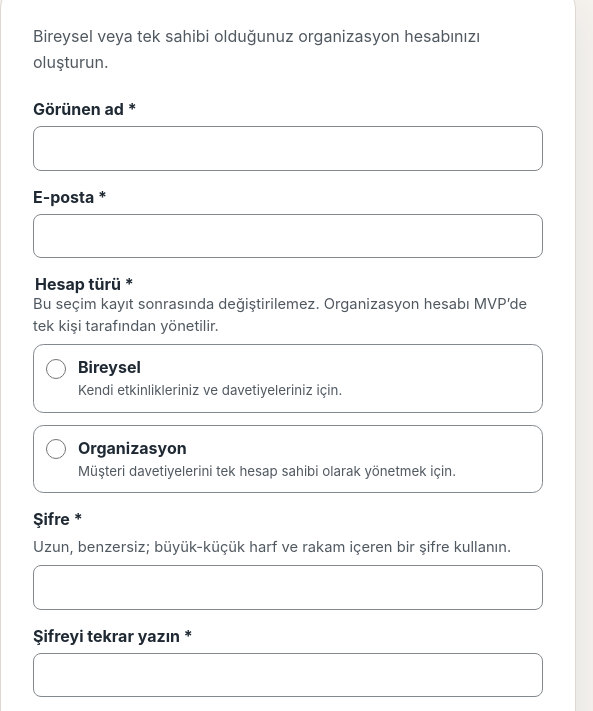
Scenario: Creator authentication pages › keeps account type explicit, immutable in copy, and sends the selected Organization value
This screenshot has width=593, height=711.
Check: the text "kayıt sonrasında değiştirilemez" is shown, box [33, 295, 527, 335]
Type "Ada Organizasyon" into the field labelled "Görünen ad *" at (288,149), box [33, 126, 543, 171]
Type "ada@example.test" into the field labelled "E-posta *" at (288,236), box [33, 214, 543, 258]
Click the radio button labelled "Organizasyon" at (56,449), box [46, 439, 66, 459]
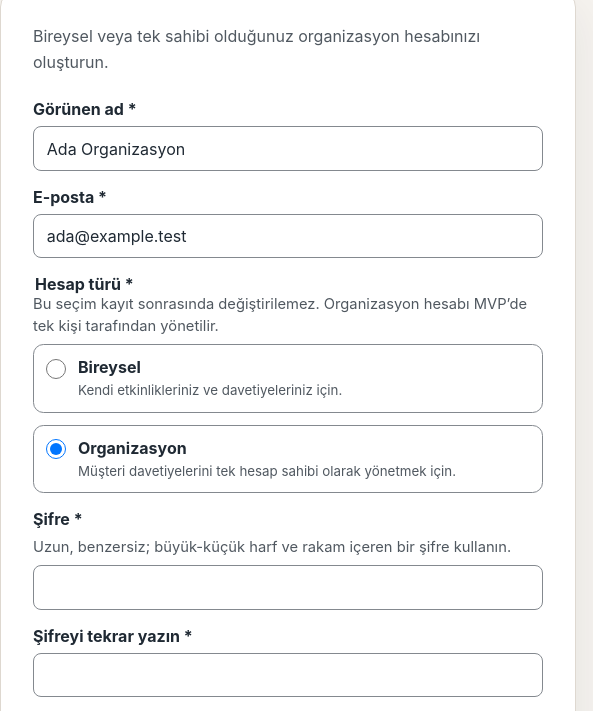
Type "StrongPassw0rd!" into the password field with id "register-password" at (288,587), box [33, 565, 543, 610]
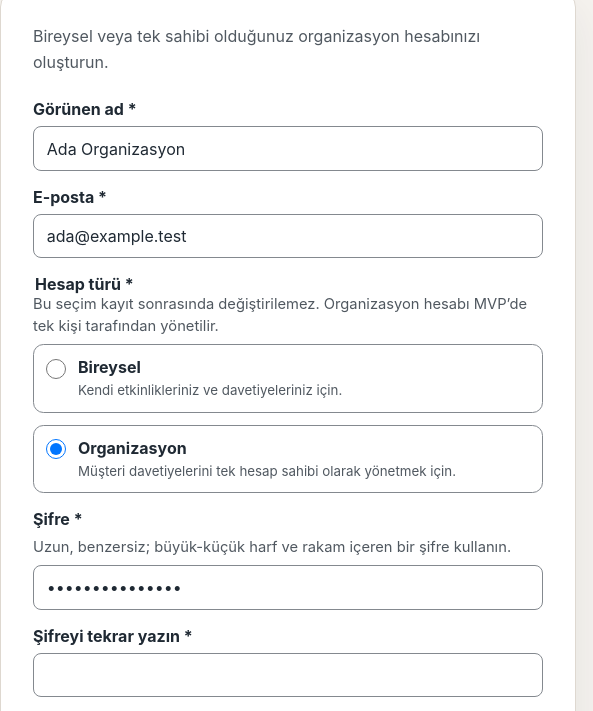
Type "StrongPassw0rd!" into the password field labelled "Şifreyi tekrar yazın *" at (288,675), box [33, 653, 543, 697]
(page scrolled)
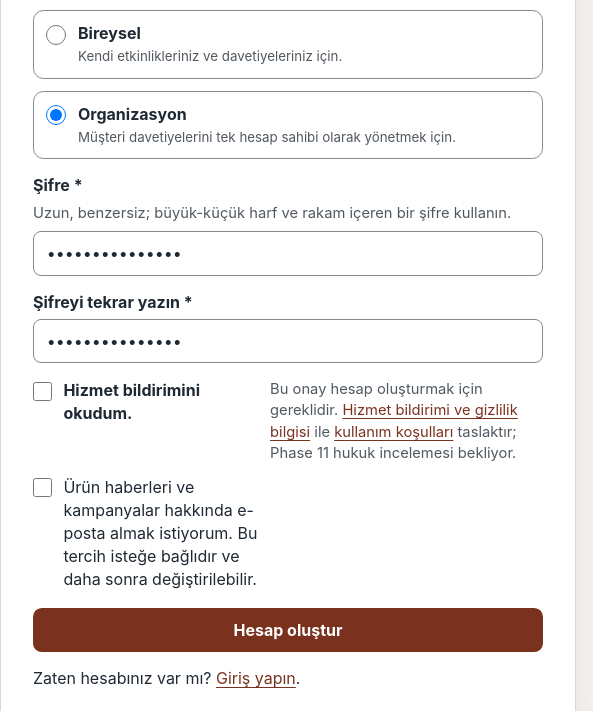
Check: the checkbox labelled "Ürün haberleri ve kampanyalar" is not checked, box [33, 478, 52, 497]
Click the checkbox labelled "Hizmet bildirimini okudum." at (43,391), box [33, 382, 52, 401]
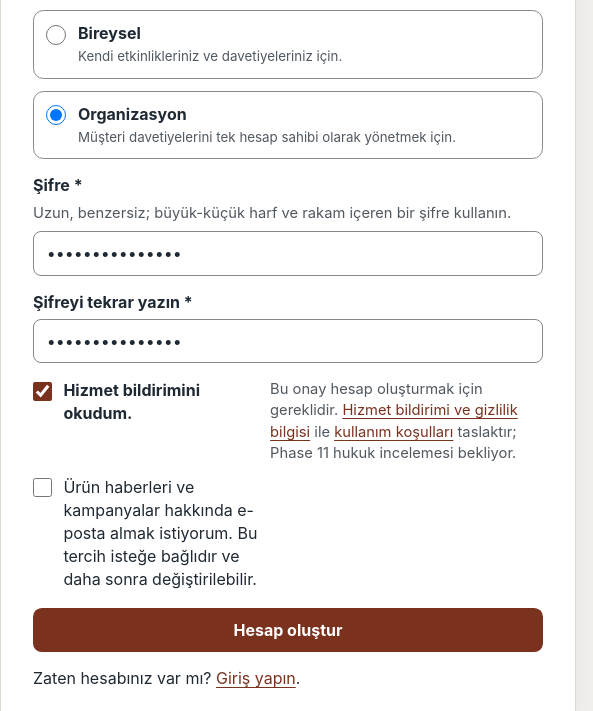
Click the checkbox labelled "Ürün haberleri ve kampanyalar" at (43,488), box [33, 478, 52, 497]
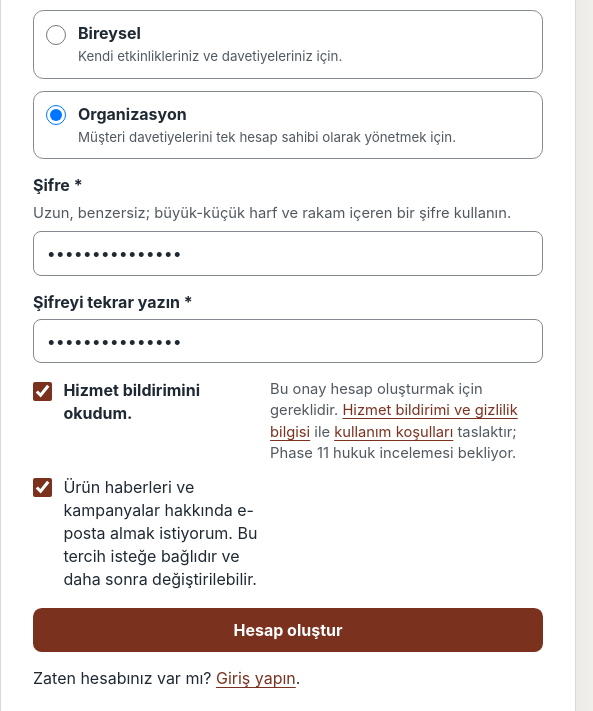
Click the button "Hesap oluştur" at (288,630), box [33, 608, 543, 652]
(page scrolled)
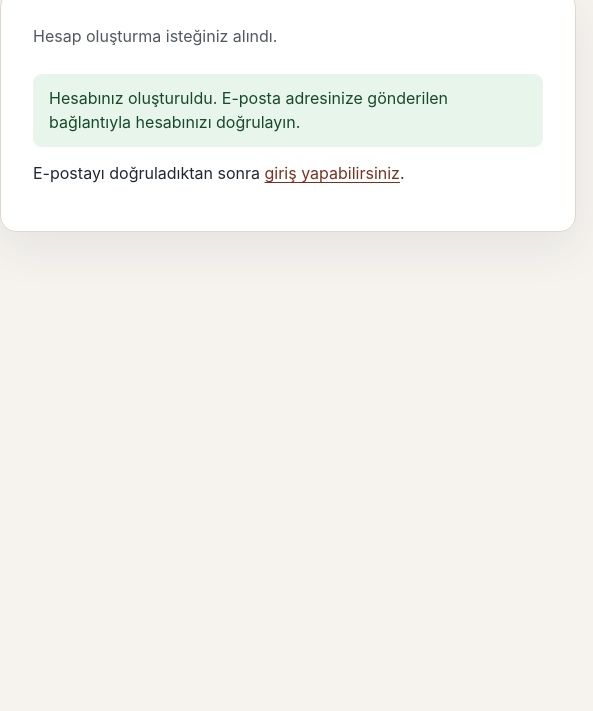
Check: the message shows "E-posta adresinize gönderilen", box [49, 88, 448, 132]
